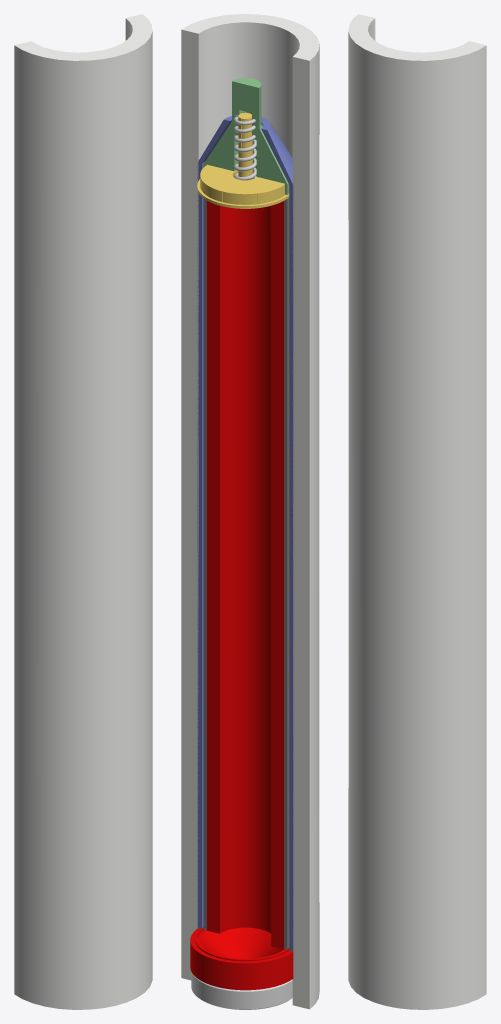
File: CFE.glb
3 views of the same model, side by side, from view 1: azimuth 30°, elevation 25°; view 2: azimuth 150°, elevation 25°; view 3: azimuth 330°, elevation 25° (orthographic).
Parts seen in each view (by area): view 1: Body2_node_1; view 2: Body2, Body2_node_1, Body2_node_0, Body2_node, Body1, Body1_node, Body3, Body1_node_1, Body4, Body1_node_0; view 3: Body2_node_1.
Boxes of the visible parts, x1,y1,x2,y2 form: Body2_node_1: (14,14,152,1009); Body2: (207,201,283,949); Body2_node_1: (181,14,319,1009); Body2_node_0: (197,161,293,951); Body2_node: (203,197,289,949); Body1: (190,927,293,990); Body1_node: (197,112,289,208); Body3: (203,78,289,194); Body1_node_1: (191,972,292,1009); Body4: (198,116,293,185); Body1_node_0: (233,114,256,180); Body2_node_1: (348,14,486,1009).
Bounding box in the file's own units: 150 × 1060 × 131.
